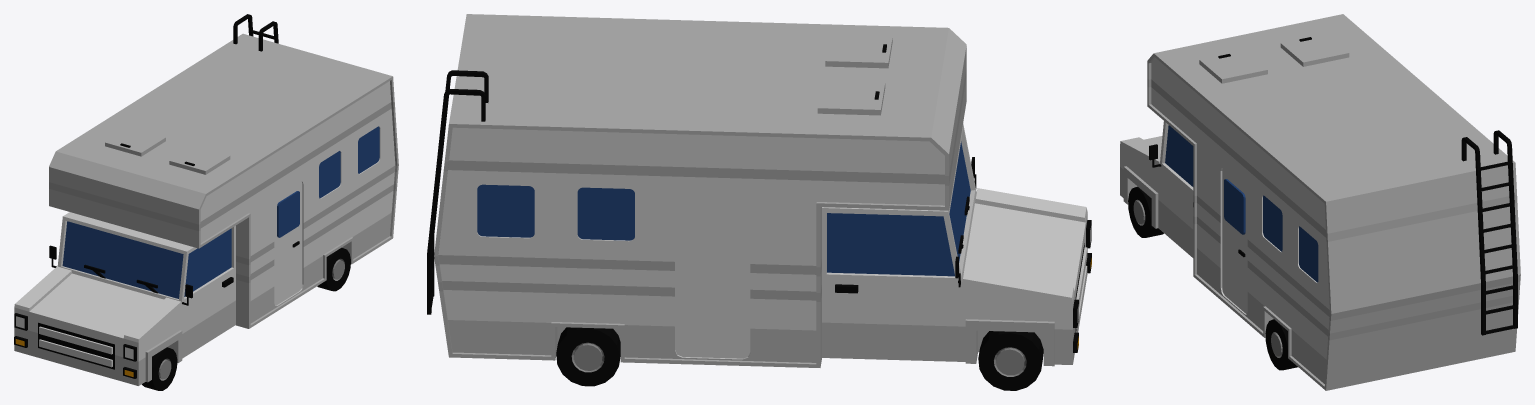
The model's file is camper.fbx.
3 views of the same model, side by side, from view 1: azimuth 30°, elevation 25°; view 2: azimuth 150°, elevation 25°; view 3: azimuth 270°, elevation 25° (orthographic). The views are drawn at different scales.
Visible parts, largest first — view 1: Cube.016; view 2: Cube.016; view 3: Cube.016.
Boxes of the visible parts, x1,y1,x2,y2 form: Cube.016: [14, 14, 398, 390]; Cube.016: [427, 14, 1091, 390]; Cube.016: [1120, 14, 1520, 390].
Bounding box in the file's own units: 442 × 207 × 321.
